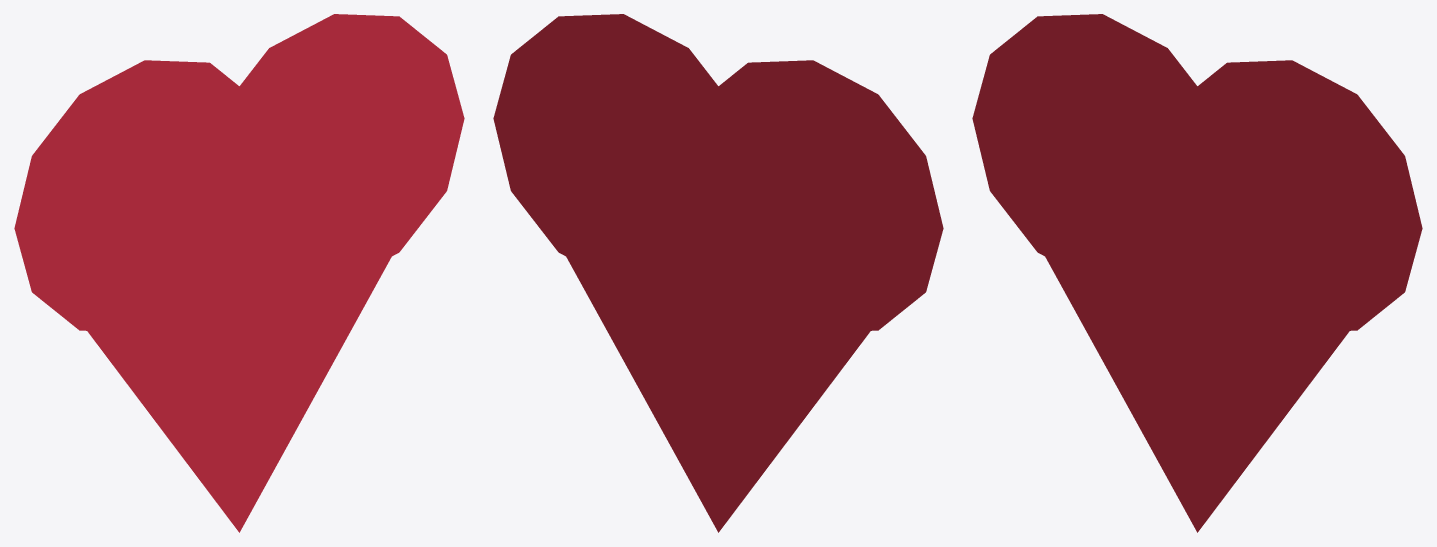
The model's file is heart.glb.
The picture shows the model from 3 angles, left to right: view 1: azimuth 30°, elevation 25°; view 2: azimuth 150°, elevation 25°; view 3: azimuth 330°, elevation 25°; orthographic projection.
Visible parts, largest first — view 1: heart; view 2: heart; view 3: heart.
Boxes of the visible parts, x1,y1,x2,y2 form: heart: (14,14,464,532); heart: (493,14,943,532); heart: (972,14,1422,532).
Bounding box in the file's own units: 0.76 × 0.8 × 0.
Materials: 1 (1 with a texture image).
